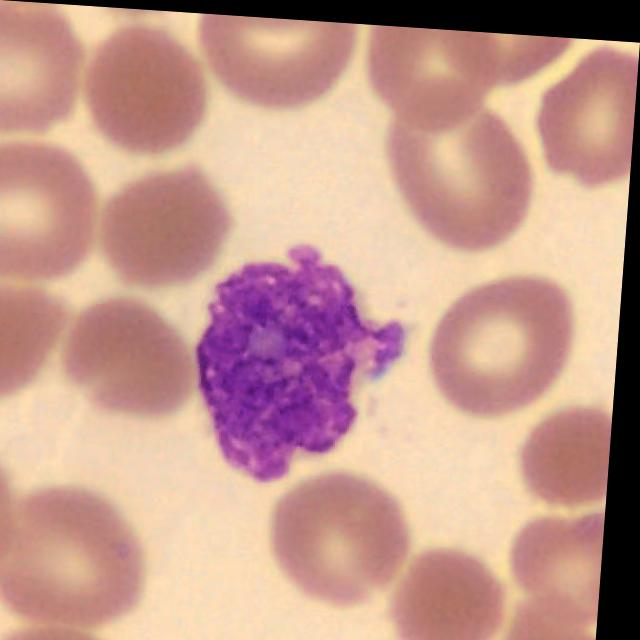Restos celulares: (200, 241, 409, 481)
